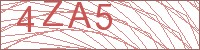4: (16, 5, 35, 32)
5: (95, 2, 114, 31)
A: (68, 1, 92, 29)
Z: (43, 1, 65, 27)
